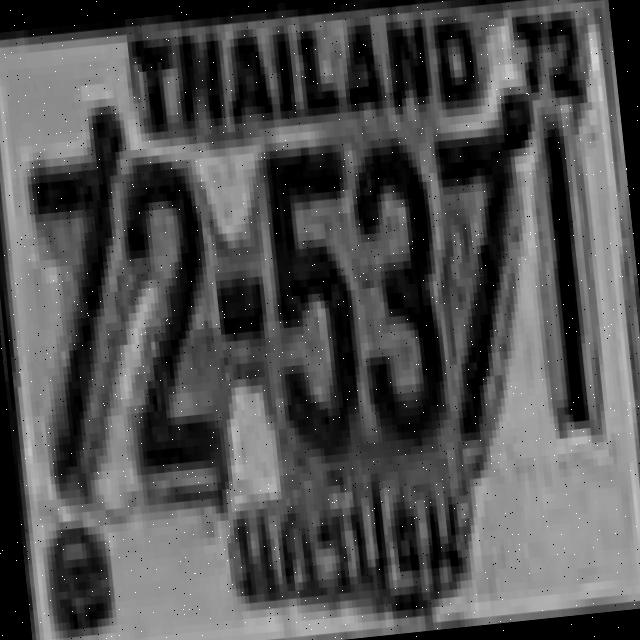1: (518, 116, 594, 435), (524, 116, 596, 434)
2: (101, 148, 223, 494)
3: (342, 132, 448, 446)
5: (256, 140, 366, 456)
7: (12, 101, 154, 495), (425, 109, 556, 441)
NakhonPathom: (222, 462, 469, 636)
